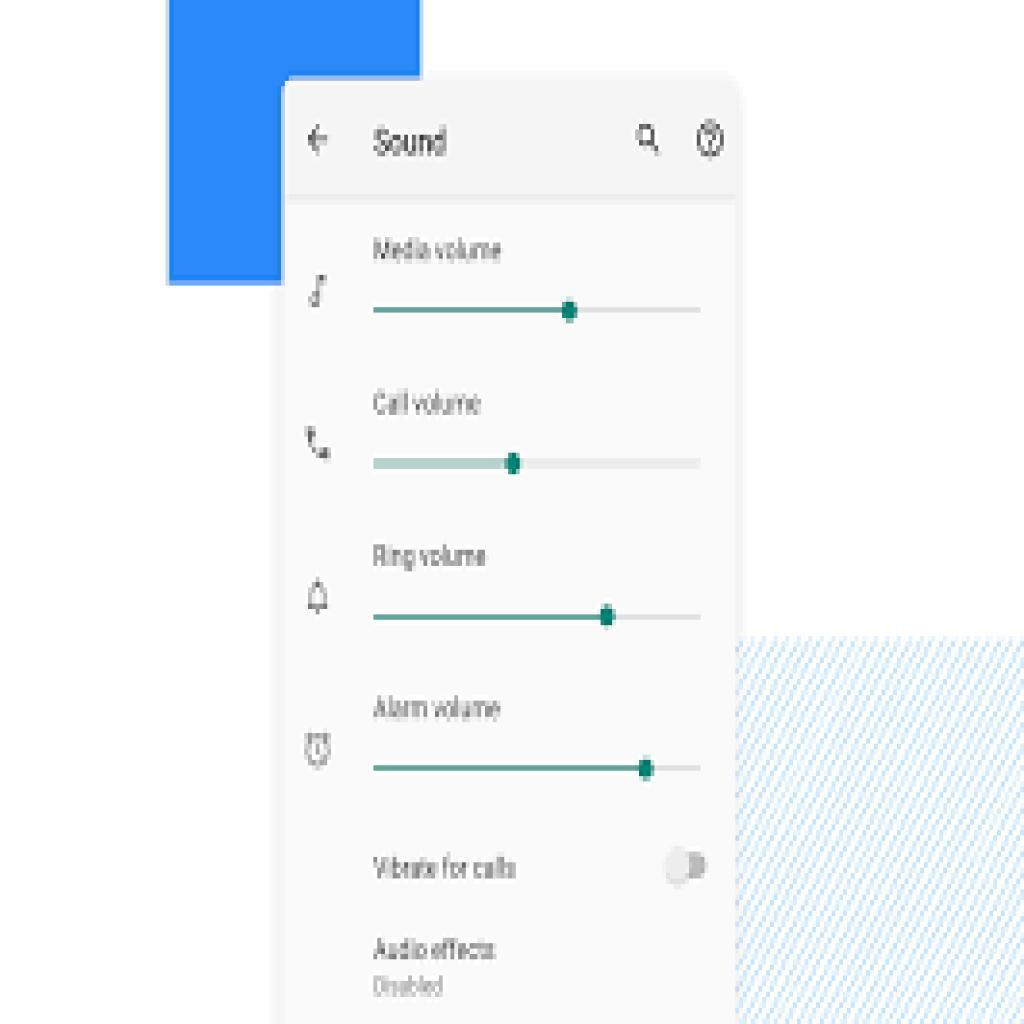icon: (689, 119, 734, 166), (632, 119, 670, 165), (302, 423, 339, 467), (299, 119, 336, 160), (303, 573, 333, 616), (307, 270, 335, 310)
slider: (374, 433, 707, 493), (376, 592, 703, 645), (376, 288, 703, 337), (371, 744, 705, 791)
switch: (659, 840, 718, 887)
